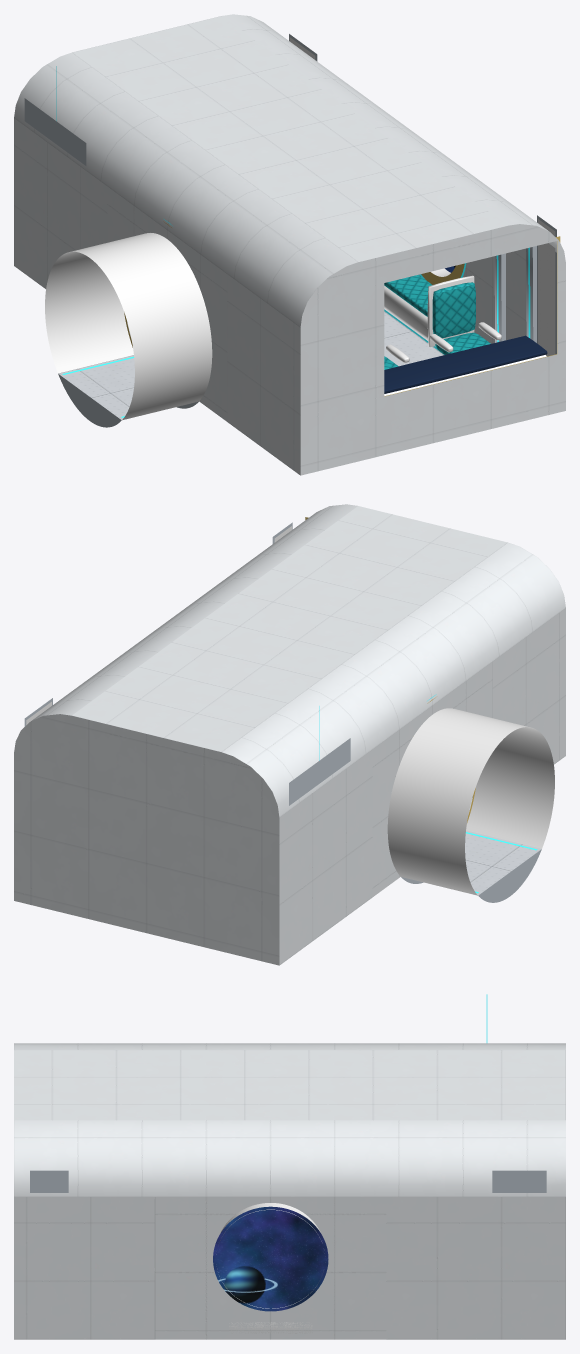
Rendered from starpod_interior_v4.glb.
3 views of the same model, one above another, from view 1: azimuth 30°, elevation 25°; view 2: azimuth 150°, elevation 25°; view 3: azimuth 270°, elevation 25° (orthographic). The views are drawn at different scales.
Size of the model in its own units: 6.2 by 4.2 by 8.6.
Materials: 11 (11 with a texture image).
